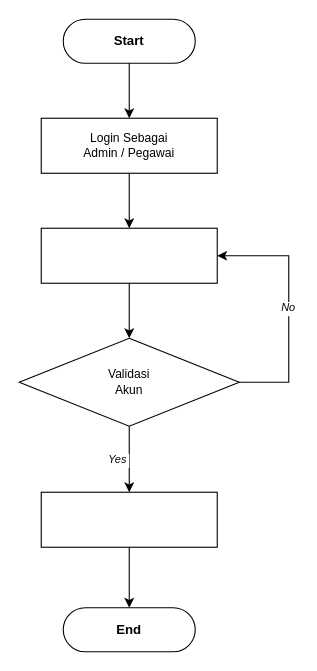
Some shapes in this 317 by 671 pixel diagram are drawn without their labels. Here are the shapes that lost their labels. From the top down, the centre of each, then its label:
At [128,255]: "Input Username & Password".
At [128,519]: "Tampilkan Dashboard".
